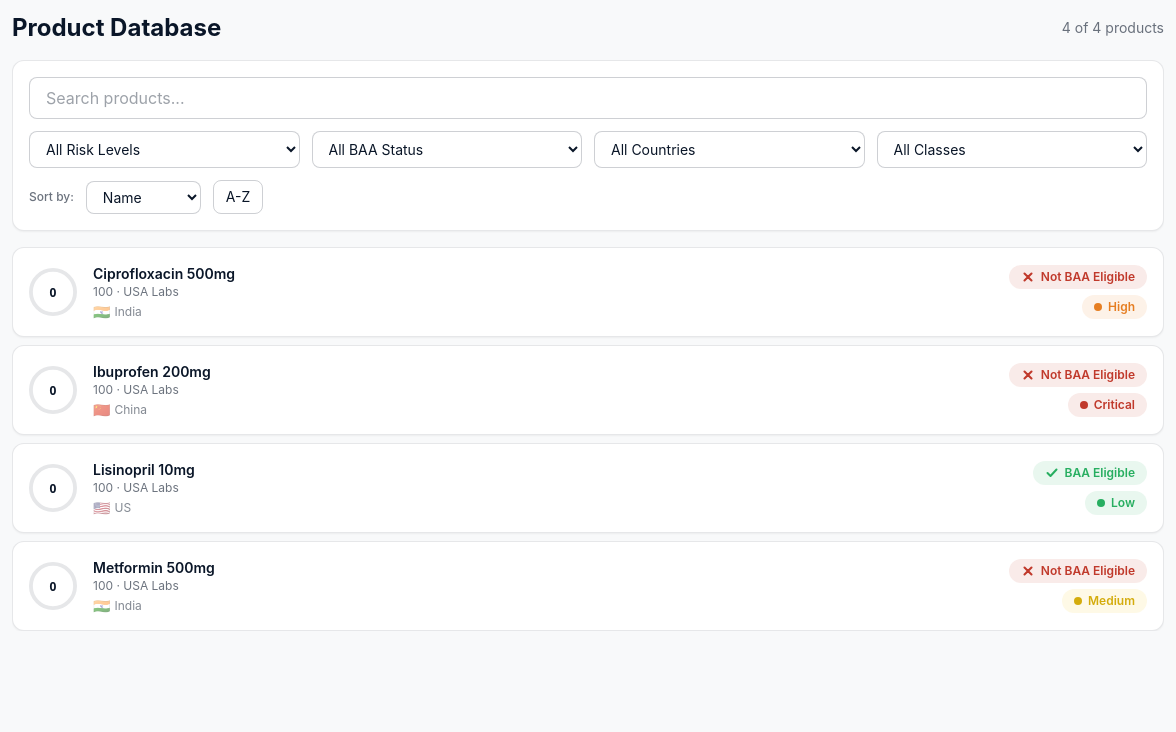
Test: ProductList › filters reduce displayed count › filters by BAA eligibility
US products are BAA eligible, non-US are not
Select "BAA Eligible" in the dropdown with test id "filter-baa": coordinates (447, 150) [312,131,582,168]
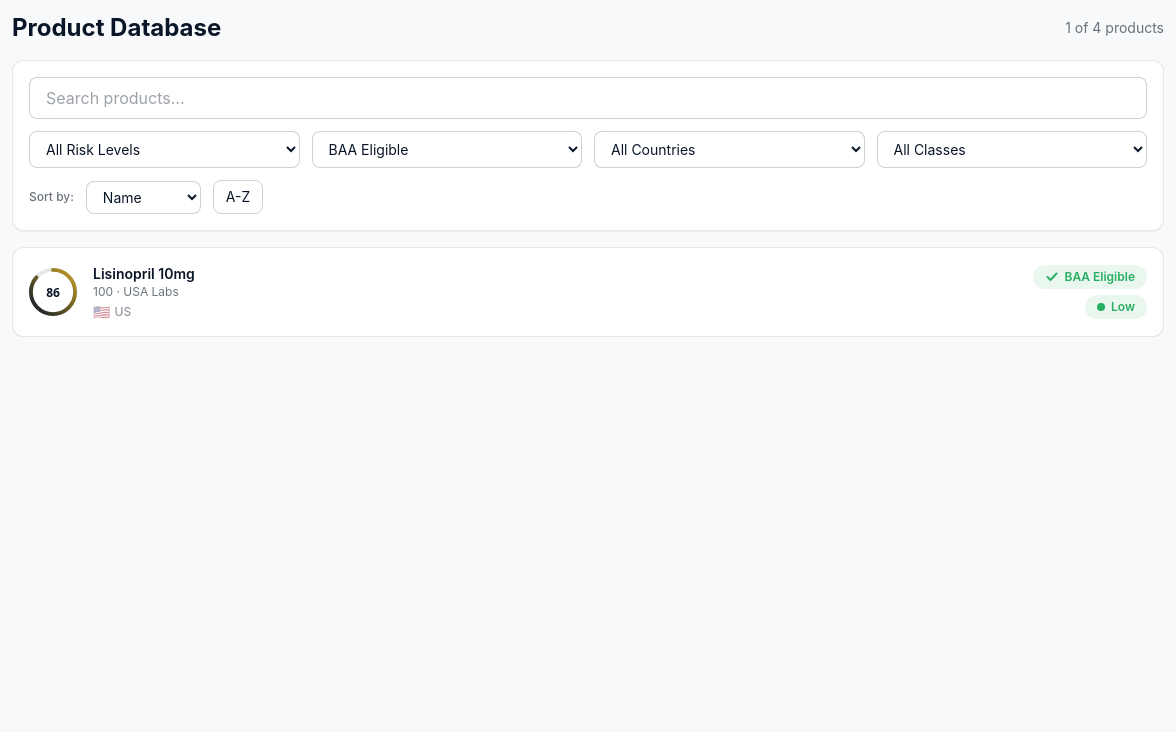
Result: the number of buttons with test id "product-card" is 1 at [12,247,1164,337]
